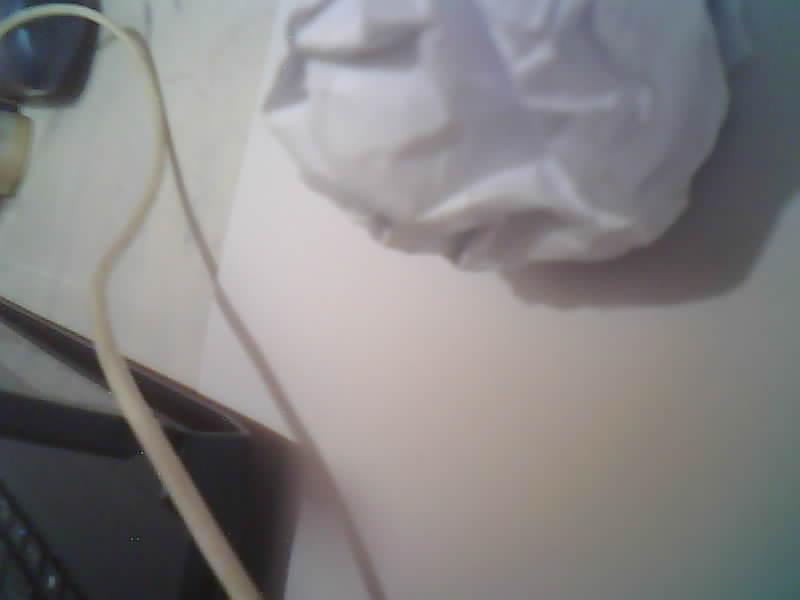biodegradable: (263, 0, 743, 269)
